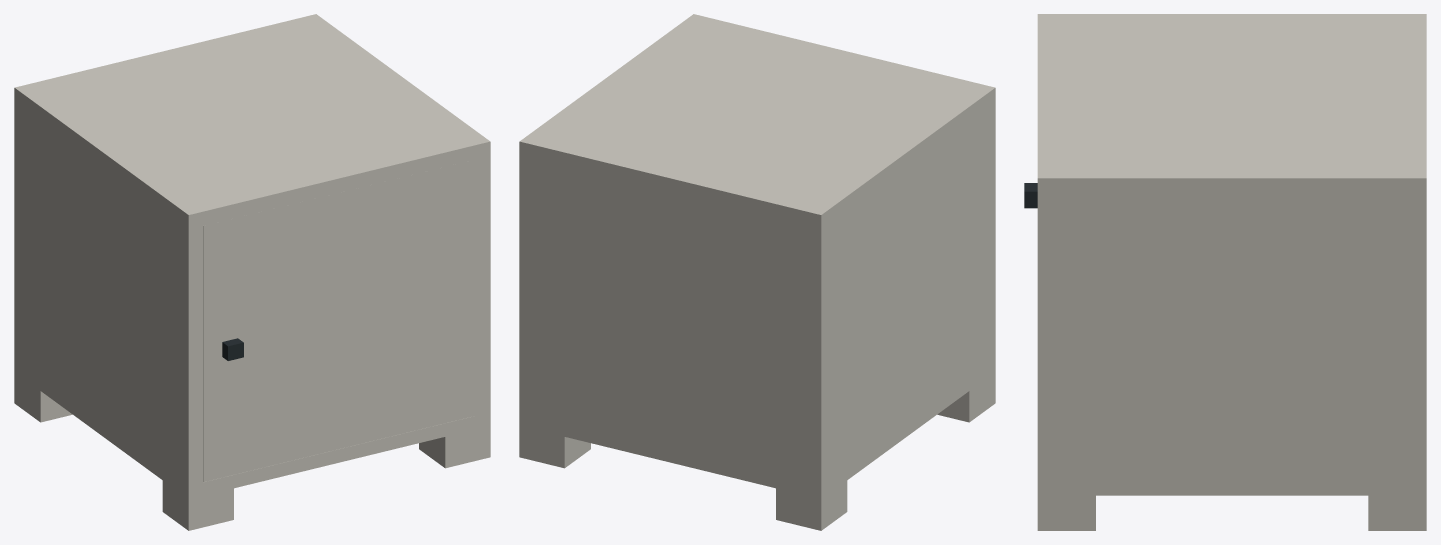
The model's file is white_nightstand.fbx.
The picture shows the model from 3 angles, left to right: view 1: azimuth 30°, elevation 25°; view 2: azimuth 150°, elevation 25°; view 3: azimuth 270°, elevation 25°; orthographic projection. The views are drawn at different scales.
Parts seen in each view (by area): view 1: Cube, Cube.001; view 2: Cube; view 3: Cube.
Boxes of the visible parts, x1,y1,x2,y2 form: Cube: (14, 14, 490, 530); Cube.001: (203, 159, 475, 481); Cube: (519, 14, 995, 530); Cube: (1037, 14, 1426, 530).
Bounding box in the file's own units: 200 × 200 × 207.
